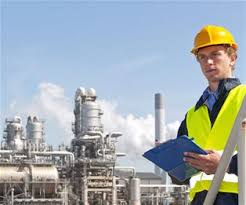Person_wearing_helmet: (188, 19, 238, 65)
